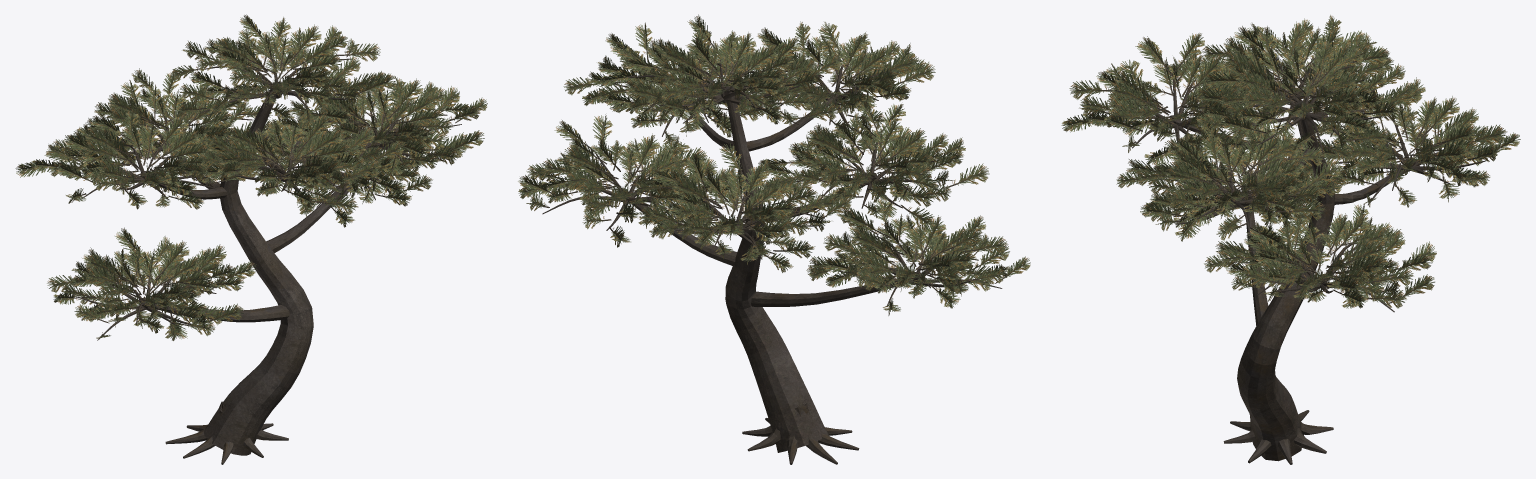
File: pine.glb
3 renders of one model, left to right at view 1: azimuth 30°, elevation 25°; view 2: azimuth 150°, elevation 25°; view 3: azimuth 270°, elevation 25°, orthographic. The views are drawn at different scales.
Visible parts, largest first — view 1: pine_BranchFans, pine_CurvedTrunk; view 2: pine_BranchFans, pine_CurvedTrunk; view 3: pine_BranchFans, pine_CurvedTrunk.
Boxes of the visible parts, box(x1,y1,x2,y2) form: pine_BranchFans: box(15, 14, 487, 340); pine_CurvedTrunk: box(56, 51, 461, 464); pine_BranchFans: box(518, 14, 1030, 315); pine_CurvedTrunk: box(542, 60, 1002, 464); pine_BranchFans: box(1061, 15, 1520, 308); pine_CurvedTrunk: box(1110, 58, 1485, 464).
Bounding box in the file's own units: 9.2 × 8 × 7.9.
2 materials, 2 textured.
